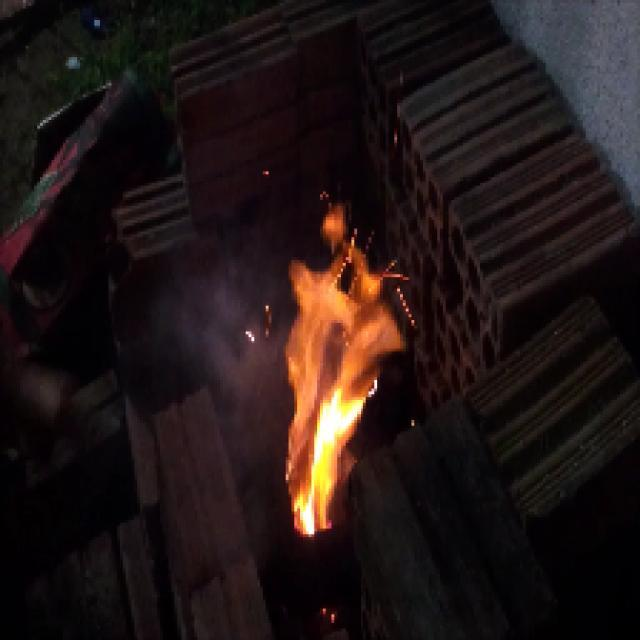Fire: (283, 200, 406, 540)
Smoke: (148, 223, 278, 483)
